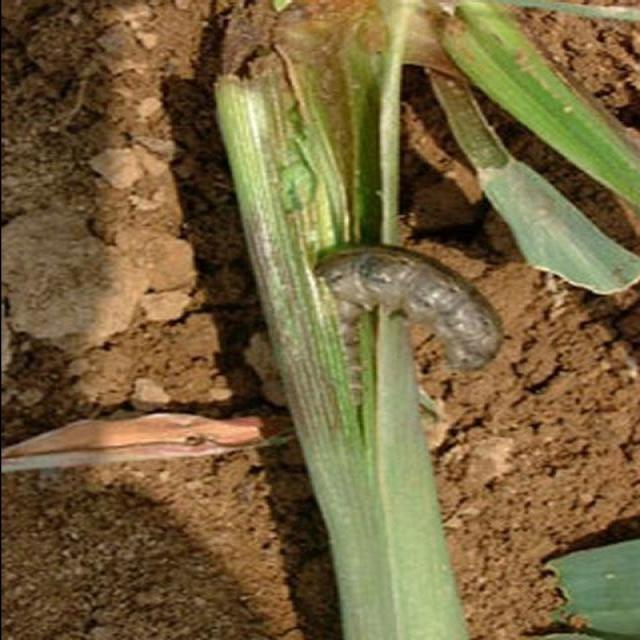black cutworm: (304, 243, 517, 372)
